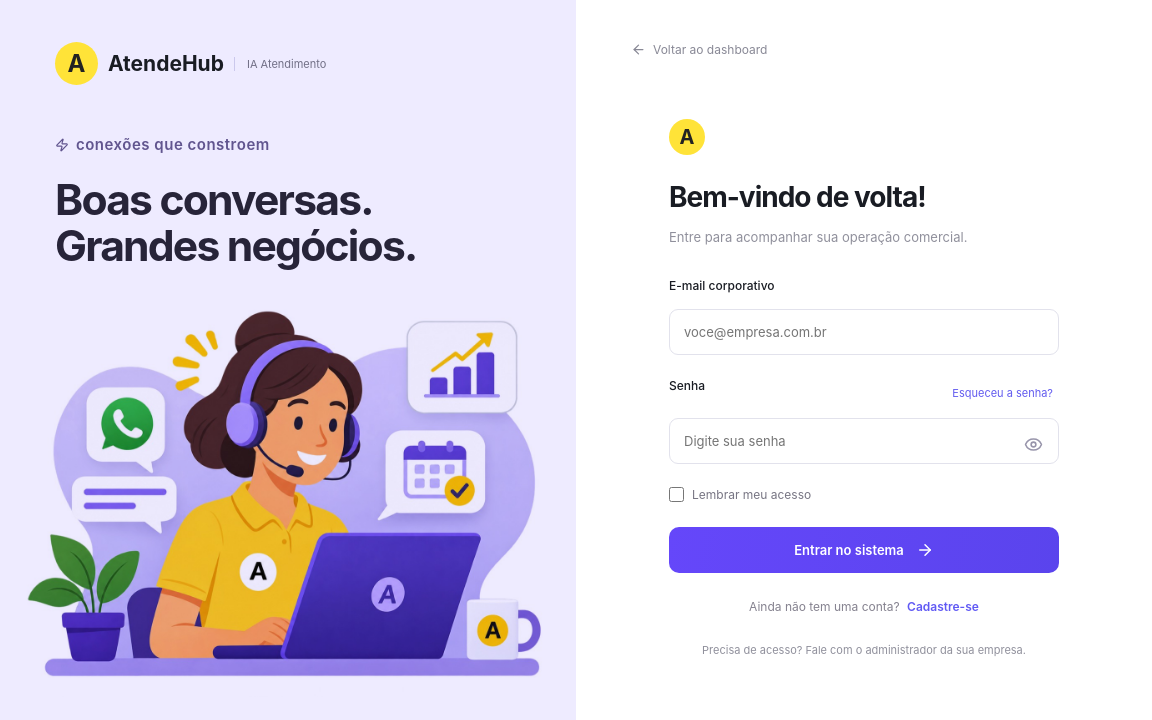
Test: formulários reais › mostrar senha e recuperação não fingem envio
Click the button named "Mostrar senha" at x=1034, y=446, box [1019, 430, 1048, 462]
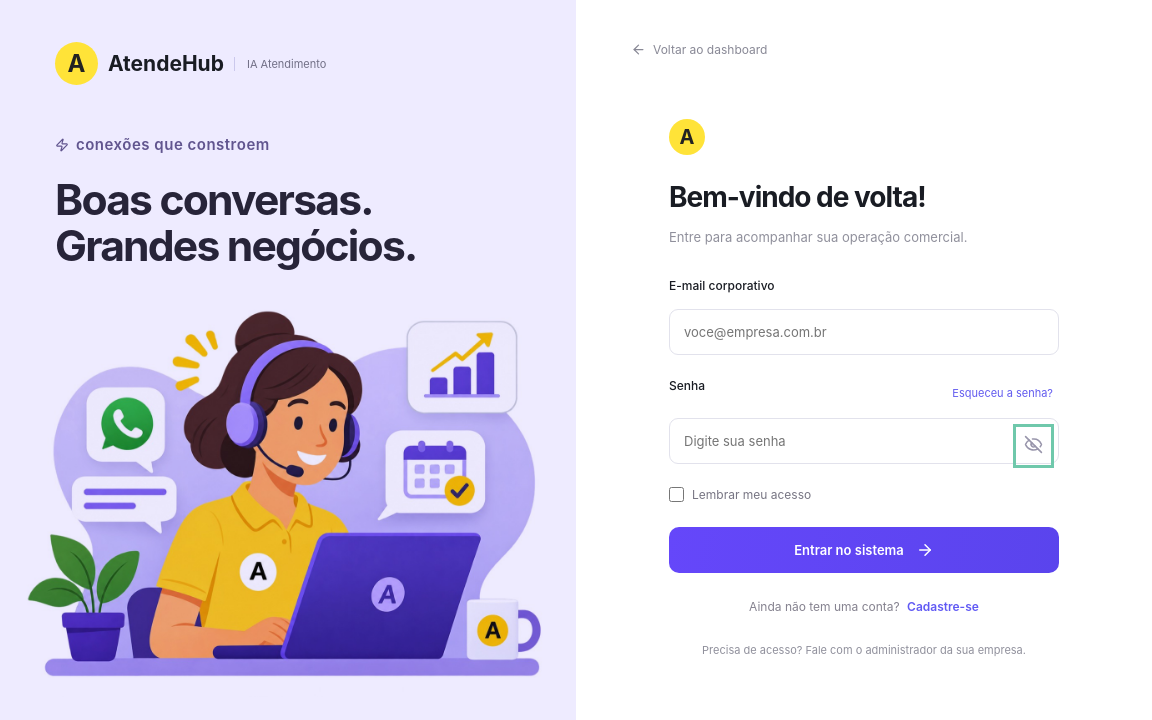
Click the button "Esqueceu a senha?" at x=1003, y=393, box [946, 385, 1059, 401]
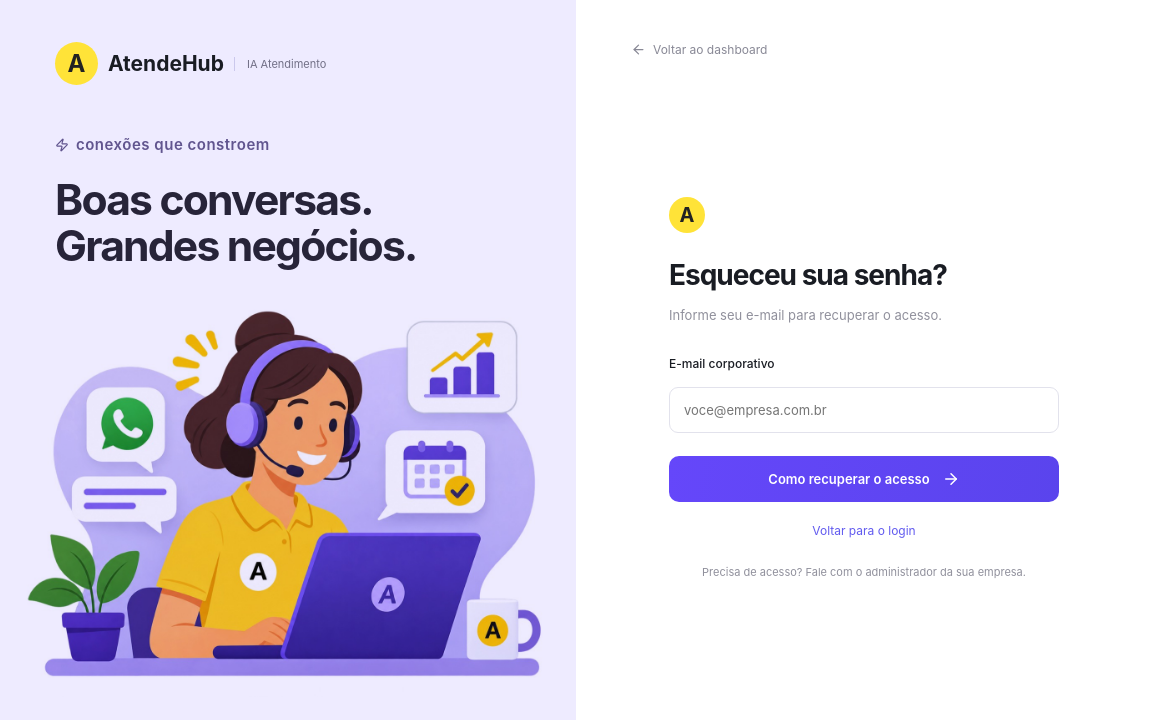
Type "pedro@example.com" into the field labelled "E-mail corporativo" at x=864, y=410, box [669, 387, 1059, 433]
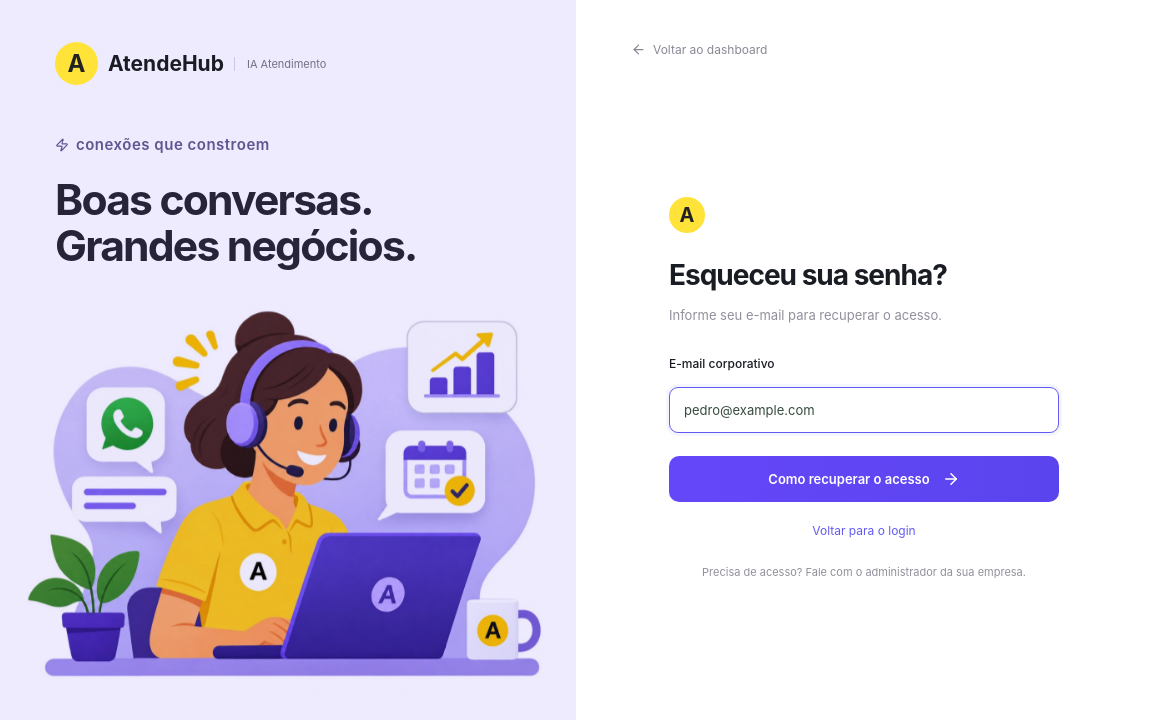
Click the button "Como recuperar o acesso" at x=864, y=479, box [669, 456, 1059, 502]
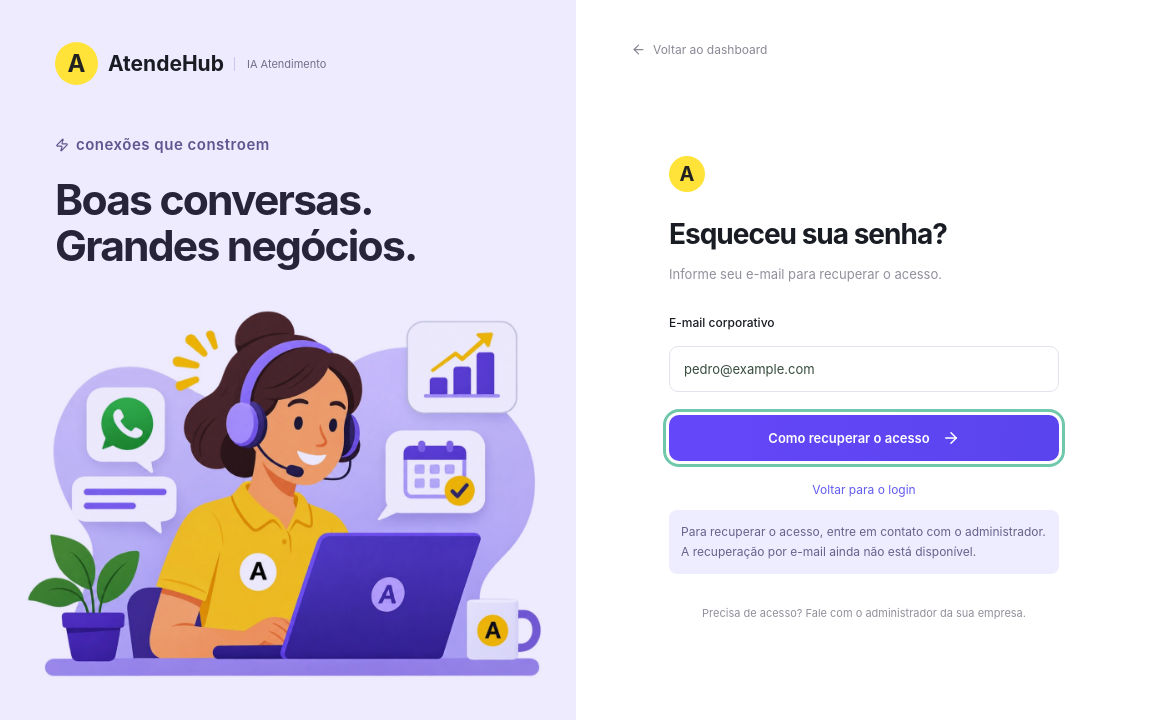
Check: the message shows "entre em contato com o administrador", box [681, 524, 1046, 559]
